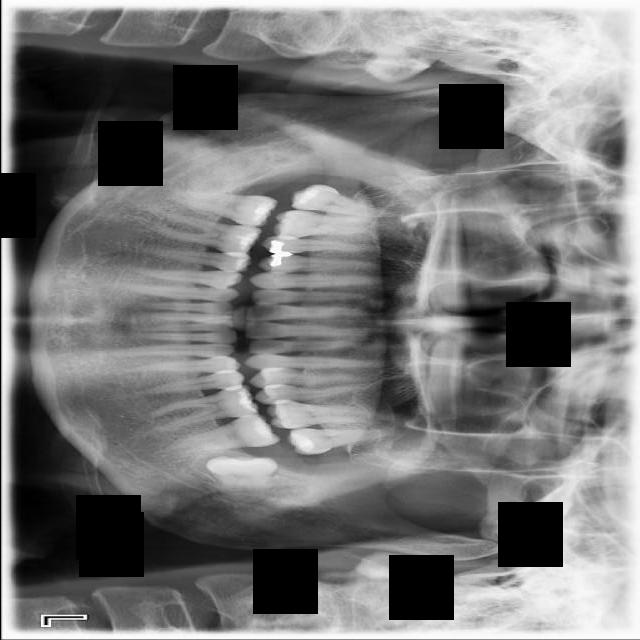52: (230, 185, 280, 238), (216, 214, 264, 267), (216, 377, 263, 427), (285, 177, 339, 217), (284, 420, 325, 465), (259, 233, 299, 256), (257, 252, 293, 274), (217, 251, 251, 273)
73: (83, 584, 91, 596)
BioHorizons Implant: (286, 426, 385, 457)
Biomet 3i Implant: (204, 454, 278, 504)
Blue Sky Bio Implant: (163, 412, 281, 458)
Caries: (287, 180, 398, 222)
Implant: (170, 188, 279, 229)
